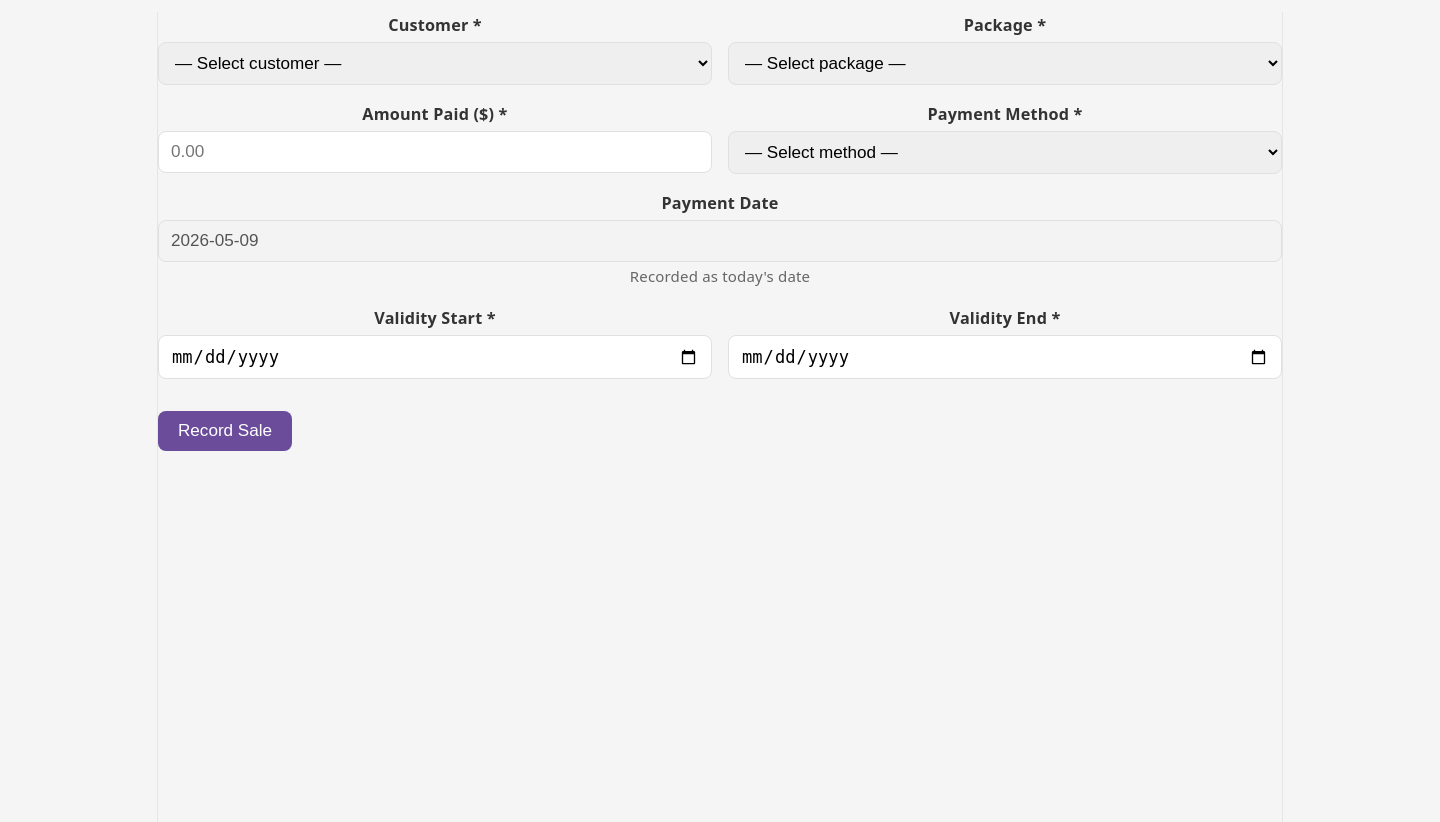
Scenario: SaleForm — date validation › shows error when validity end is before validity start
Type "2026-12-31" into the date field labelled "Validity Start *" at (435, 358), box [158,336,712,380]
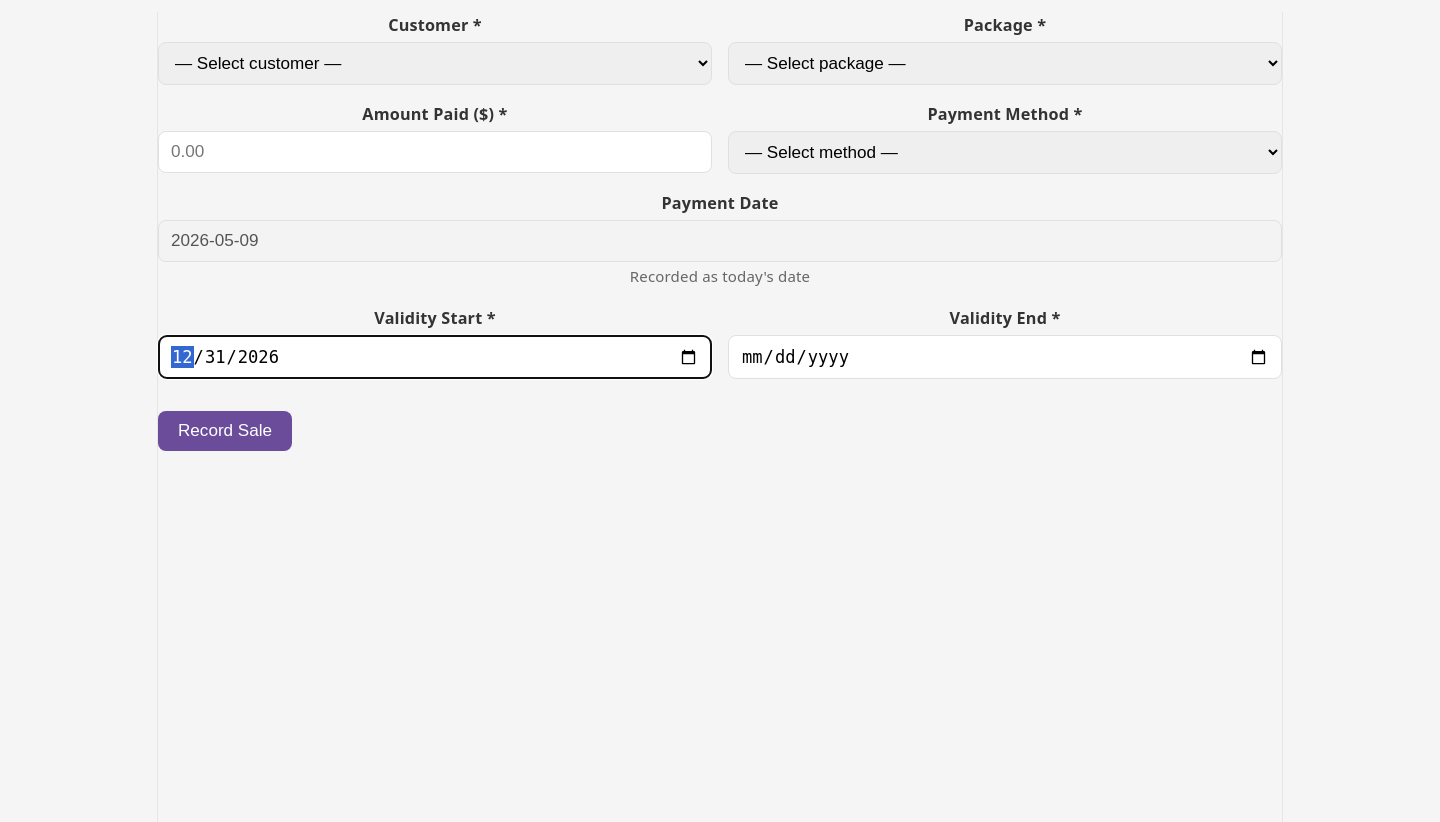
Type "2026-05-01" into the date field labelled "Validity End *" at (1005, 358), box [728,336,1282,380]
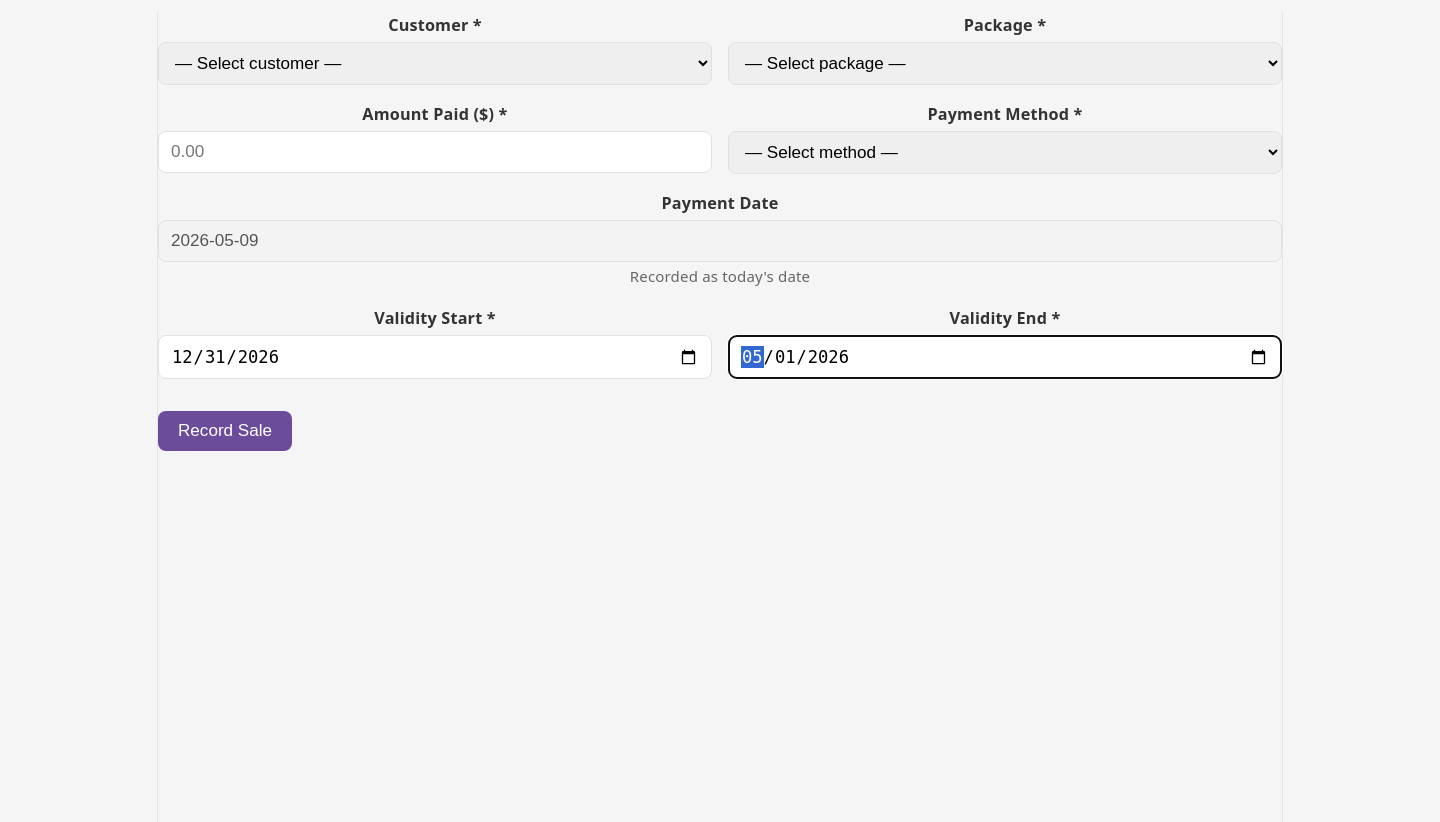
Submit the form from the button "Record Sale", box [158,412,292,452]
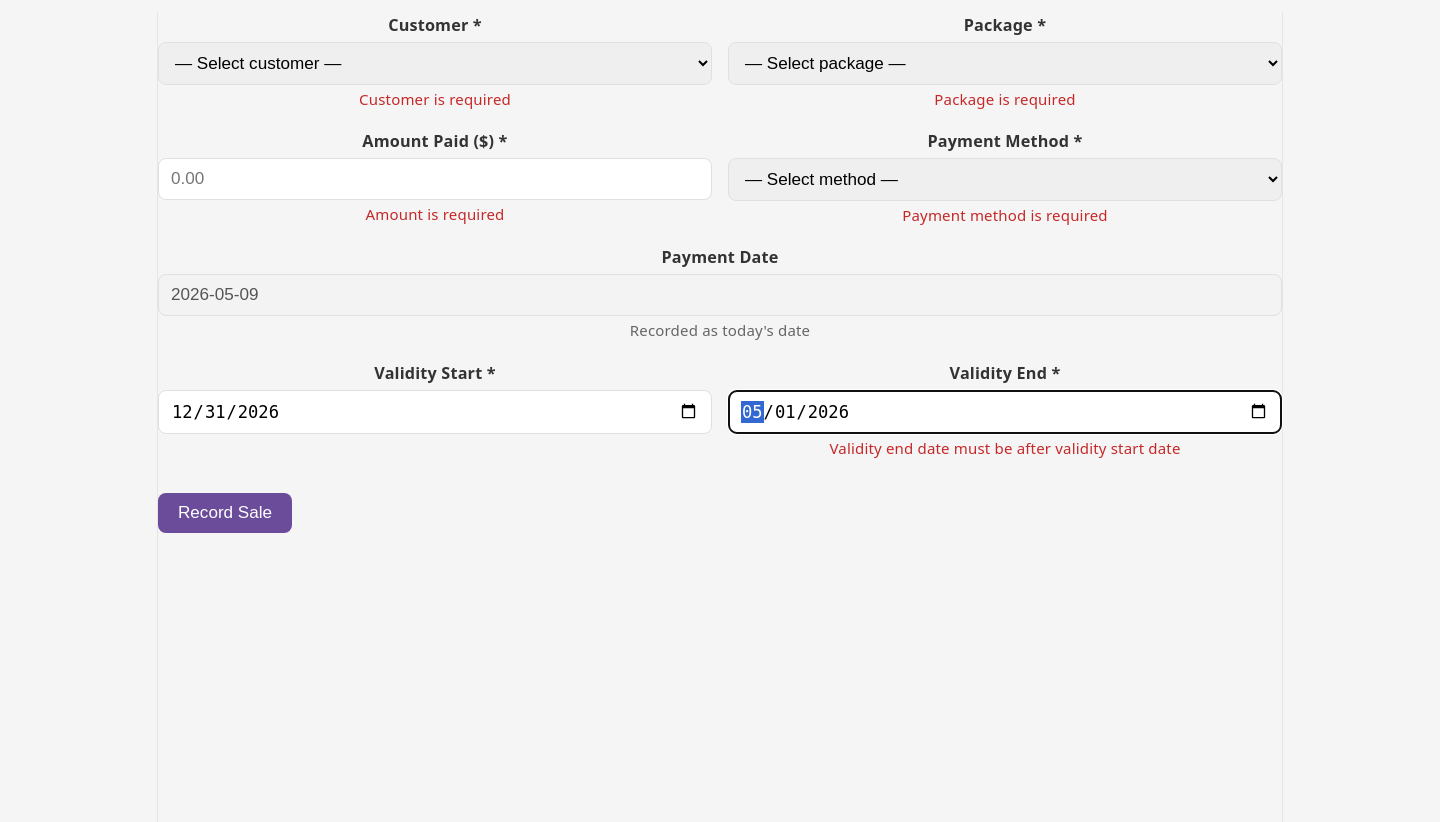
Expected: the text "Validity end date must be after validity start date" is shown, [829,438,1181,458]
